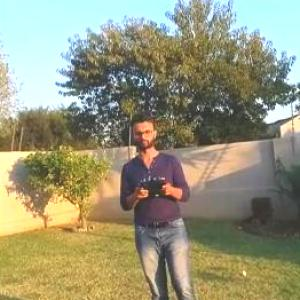follow: (114, 106, 204, 299)
